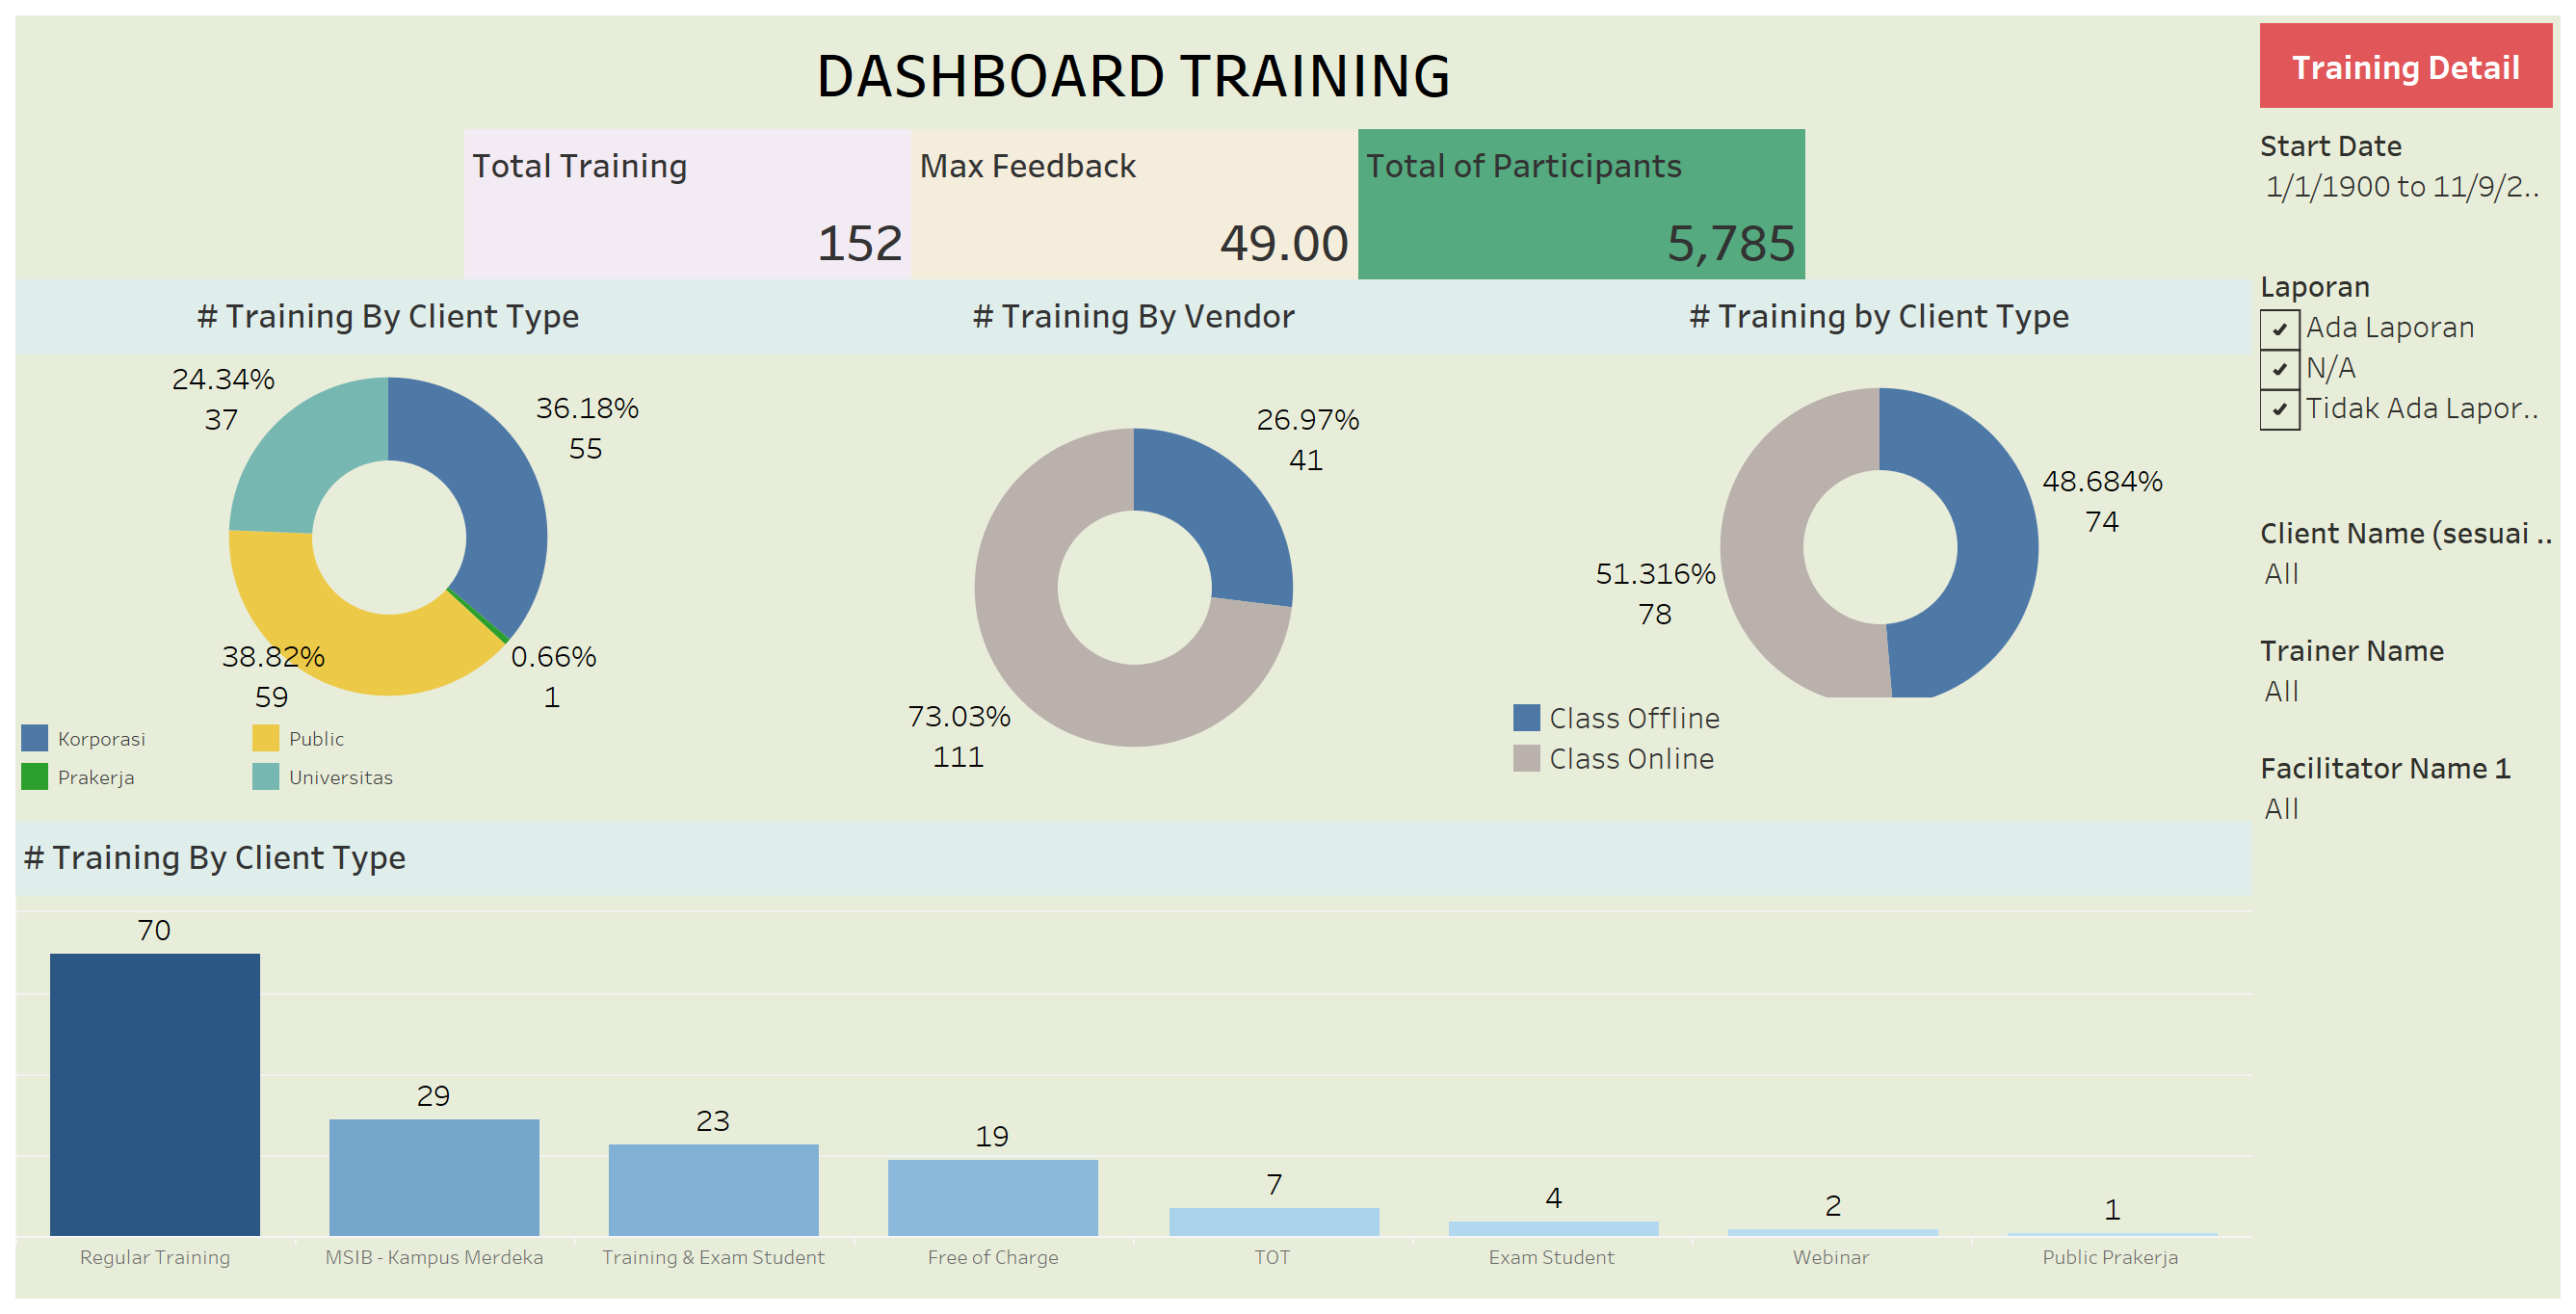

The page's visual inventory and layout, read from the dashboard file:
{"tool":"tableau","page":{"name":"Training Report","canvas":[1000,1000],"units":"permille","ordinal":0},"visuals":[{"type":"text","box":[6,11.7,868.4,86.5]},{"type":"dashboard-object","box":[874.4,11.7,119.7,76.2]},{"type":"filter","title":"Jumlah Training By Client Type (3)","param":"[federated.0shnnt200pkfh0104dfs209bov2u].[none:Start Date:qk]","box":[874.4,88,119.7,107]},{"type":"blank","box":[6,98.2,174.3,114.4]},{"type":"worksheet","title":"Total Training","mark":"Automatic","box":[180.2,98.2,173.5,114.4]},{"type":"worksheet","title":"Sheet 6","mark":"Automatic","box":[353.8,98.2,173.5,114.4]},{"type":"worksheet","title":"Sheet 7","mark":"Automatic","box":[527.3,98.2,173.5,114.4]},{"type":"blank","box":[700.8,98.2,173.5,114.4]},{"type":"filter","title":"Jumlah Training By Client Type","param":"[federated.0shnnt200pkfh0104dfs209bov2u].[none:Calculation_929148923384397826:nk","box":[874.4,195,119.7,187.7]},{"type":"worksheet","title":"Jumlah Training By Client Type","mark":"Automatic","rows":["Calculation_929148923374235649","Calculation_929148923374235649"],"box":[6,212.6,289.5,334.3]},{"type":"worksheet","title":"Jumlah Training By Client Type (2)","mark":"Automatic","rows":["Calculation_929148923374235649","Calculation_929148923374235649"],"box":[295.4,212.6,289.4,412]},{"type":"worksheet","title":"Jumlah Training By Client Type (3)","mark":"Automatic","rows":["Calculation_929148923374235649","Calculation_929148923374235649"],"box":[584.9,212.6,289.5,350.4]},{"type":"filter","title":"Jumlah Training By Client Type","param":"[federated.0shnnt200pkfh0104dfs209bov2u].[none:Client Name (sesuai dengan PO):nk","box":[874.4,382.7,119.7,89.4]},{"type":"filter","title":"Jumlah Training By Client Type","param":"[federated.0shnnt200pkfh0104dfs209bov2u].[none:Trainer Name:nk]","box":[874.4,472.1,119.7,89.4]},{"type":"legend","title":"Jumlah Training By Client Type","param":"[federated.0shnnt200pkfh0104dfs209bov2u].[none:Client Type (1= Korporasi; 2= Uni","box":[6,546.9,289.5,77.7]},{"type":"filter","title":"Jumlah Training By Client Type","param":"[federated.0shnnt200pkfh0104dfs209bov2u].[none:Facilitator Name 1:nk]","box":[874.4,561.6,119.7,89.4]},{"type":"legend","title":"Jumlah Training By Client Type (3)","param":"[federated.0shnnt200pkfh0104dfs209bov2u].[none:Class Type (1=Online ; 2=Offline)","box":[584.9,563.1,289.5,61.6]},{"type":"worksheet","title":"Jumlah Training By Client Type (4)","mark":"Automatic","rows":["Report Training_5BC15E8572EE444F80F60B5258DD4F35"],"box":[6,624.5,868.4,363.8]}]}

Visuals, with their boxes on the dashboard's canvas, which has no fixed pixel size, in thousandths of its width and height (x1, y1, x2, y2). These are canvas units, not pixel positions in the 2576x1314 screenshot, which may show the page scaled, cropped or inside an application window:
text: (6, 12, 874, 98)
dashboard-object: (874, 12, 994, 88)
"Jumlah Training By Client Type (3)" filter: (874, 88, 994, 195)
blank: (6, 98, 180, 213)
"Total Training" worksheet: (180, 98, 354, 213)
"Sheet 6" worksheet: (354, 98, 527, 213)
"Sheet 7" worksheet: (527, 98, 701, 213)
blank: (701, 98, 874, 213)
"Jumlah Training By Client Type" filter: (874, 195, 994, 383)
"Jumlah Training By Client Type" worksheet: (6, 213, 296, 547)
"Jumlah Training By Client Type (2)" worksheet: (295, 213, 585, 625)
"Jumlah Training By Client Type (3)" worksheet: (585, 213, 874, 563)
"Jumlah Training By Client Type" filter: (874, 383, 994, 472)
"Jumlah Training By Client Type" filter: (874, 472, 994, 562)
"Jumlah Training By Client Type" legend: (6, 547, 296, 625)
"Jumlah Training By Client Type" filter: (874, 562, 994, 651)
"Jumlah Training By Client Type (3)" legend: (585, 563, 874, 625)
"Jumlah Training By Client Type (4)" worksheet: (6, 624, 874, 988)
